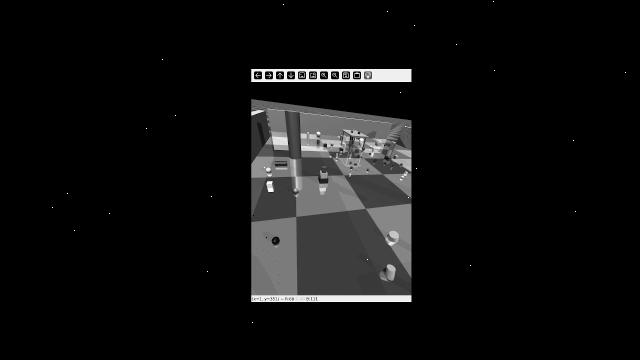cilindro: (284, 108, 304, 159), (382, 262, 397, 282), (385, 229, 402, 241), (275, 161, 292, 167), (305, 132, 312, 145), (389, 141, 396, 149), (348, 169, 353, 175), (356, 153, 361, 159), (317, 137, 320, 146), (349, 165, 354, 170), (372, 159, 377, 164), (399, 162, 403, 168), (372, 147, 376, 153), (328, 152, 333, 156), (349, 153, 352, 159), (391, 163, 395, 167), (344, 144, 347, 147), (352, 129, 355, 131)
cuadrado: (266, 180, 276, 192), (317, 172, 332, 178), (320, 166, 329, 174), (339, 135, 348, 142), (401, 169, 408, 176), (376, 139, 383, 145), (353, 148, 359, 155), (322, 143, 328, 149), (356, 131, 362, 136), (393, 154, 399, 159), (354, 163, 359, 167), (375, 157, 379, 161), (336, 152, 339, 157)
esfera: (270, 235, 281, 246), (264, 167, 272, 175), (291, 186, 298, 195), (399, 174, 405, 182), (315, 130, 322, 136), (330, 140, 335, 146), (360, 146, 366, 151), (358, 138, 365, 142), (369, 144, 372, 150), (366, 168, 370, 172), (384, 161, 388, 164), (369, 152, 372, 156), (334, 158, 340, 160), (349, 160, 352, 163), (351, 130, 353, 133)
rectangulo: (383, 152, 393, 162), (317, 178, 329, 182)
